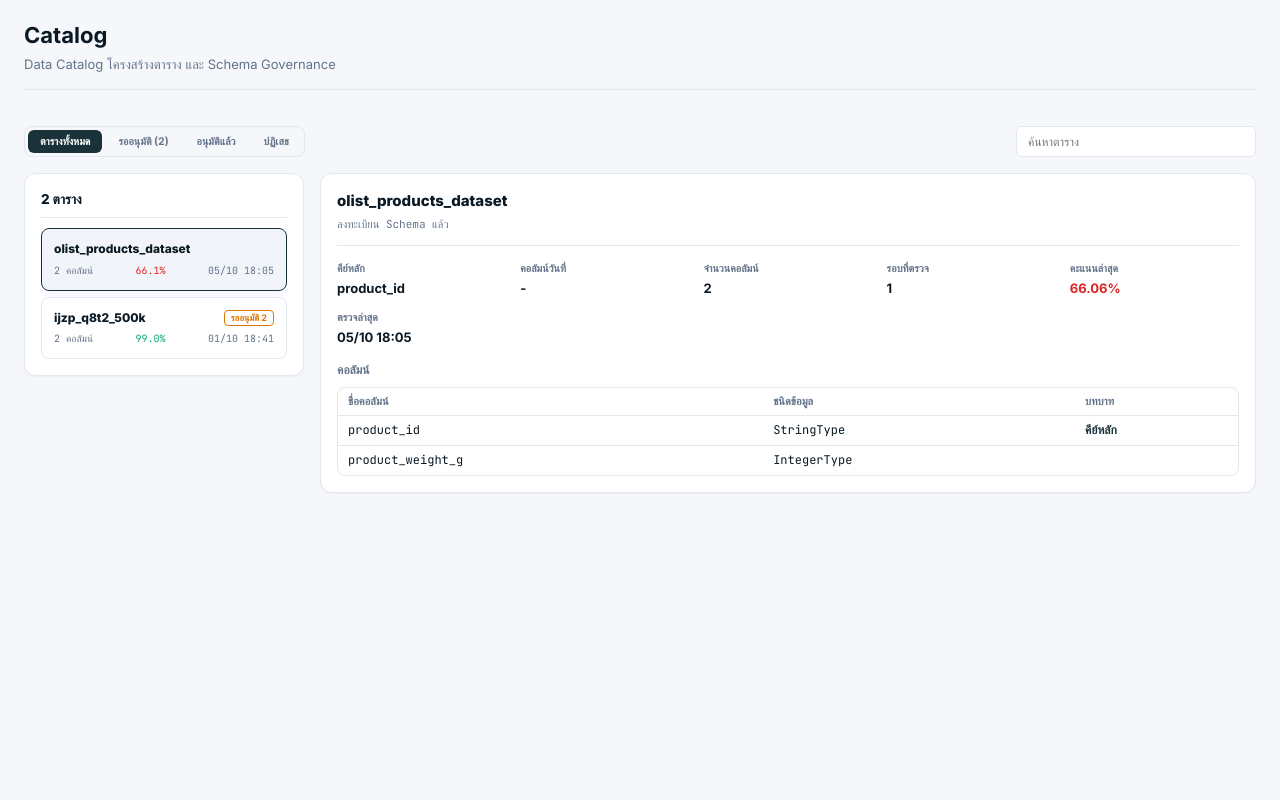
Test: says what was expected, what was found and what the system already did
What coordinates should you click on to do the following:
click the button "รออนุมัติ (2)"
I would click on:
 (144, 142)
Its box is [106,130,181,153].
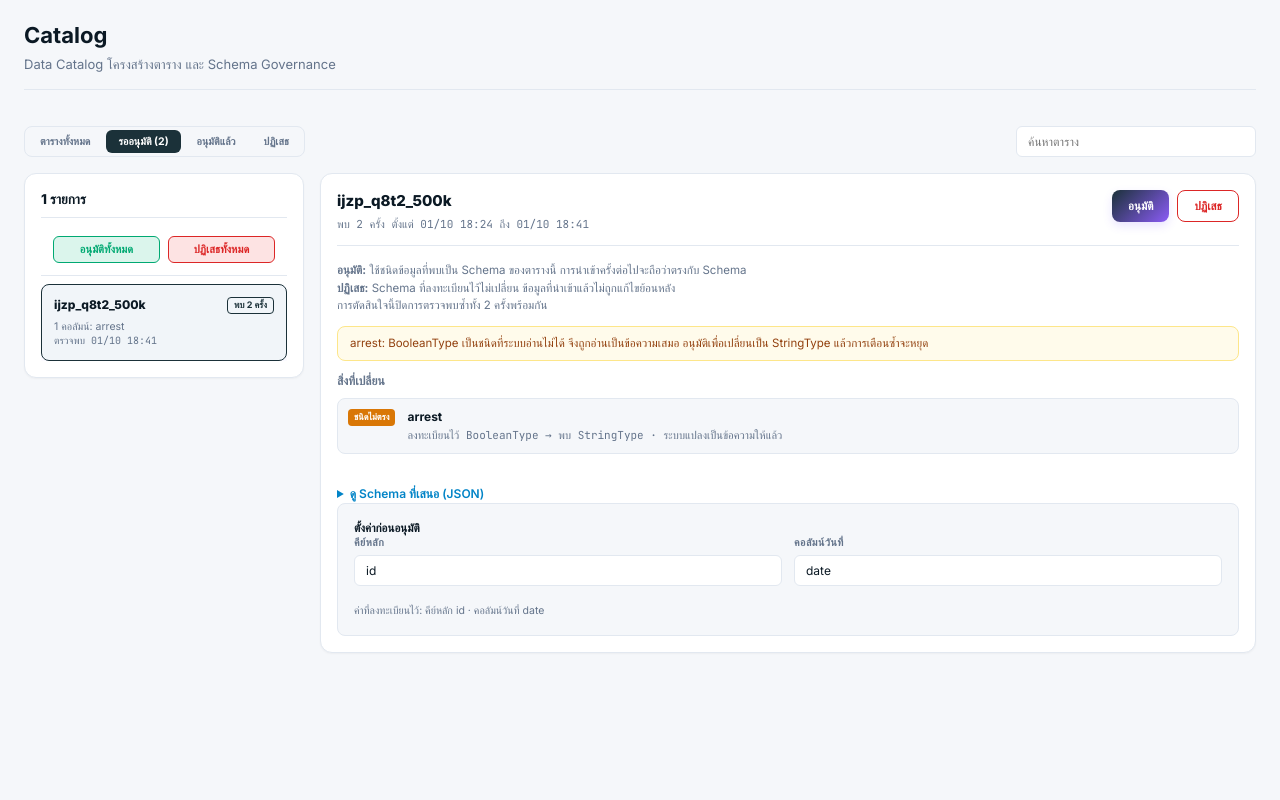
Expected: the text "ลงทะเบียนไว้ BooleanType → พบ StringType · ระบบแปลงเป็นข้อความให้แล้ว" is shown, [408,428,782,443]
Expected: the text "การตัดสินใจนี้ปิดการตรวจพบซ้ำทั้ง 2 ครั้งพร้อมกัน" is shown, [337,298,547,312]
